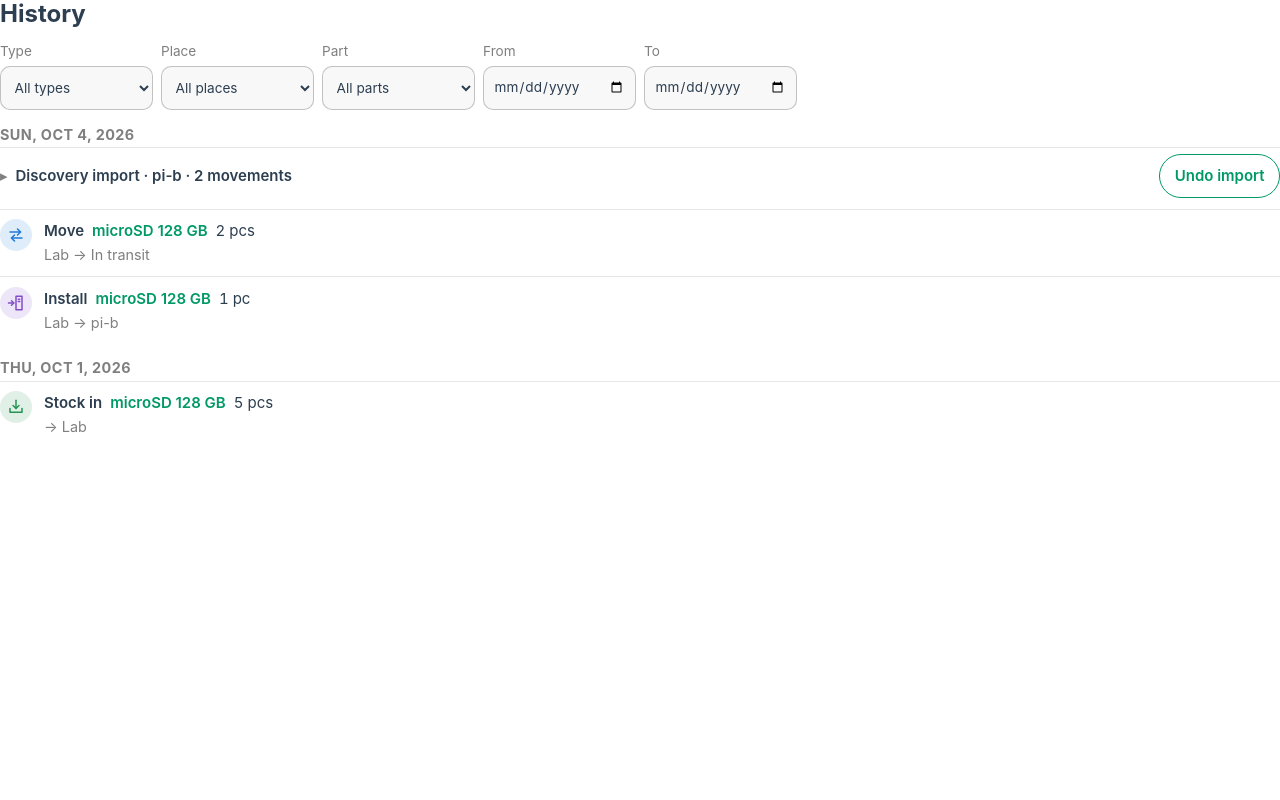
Test: History: discovery imports (spec §4.8, §13.4.4) › Undo import errors stay on the sheet
Click the button with test id "undo-import" at x=1220, y=176, box [1159, 154, 1279, 198]
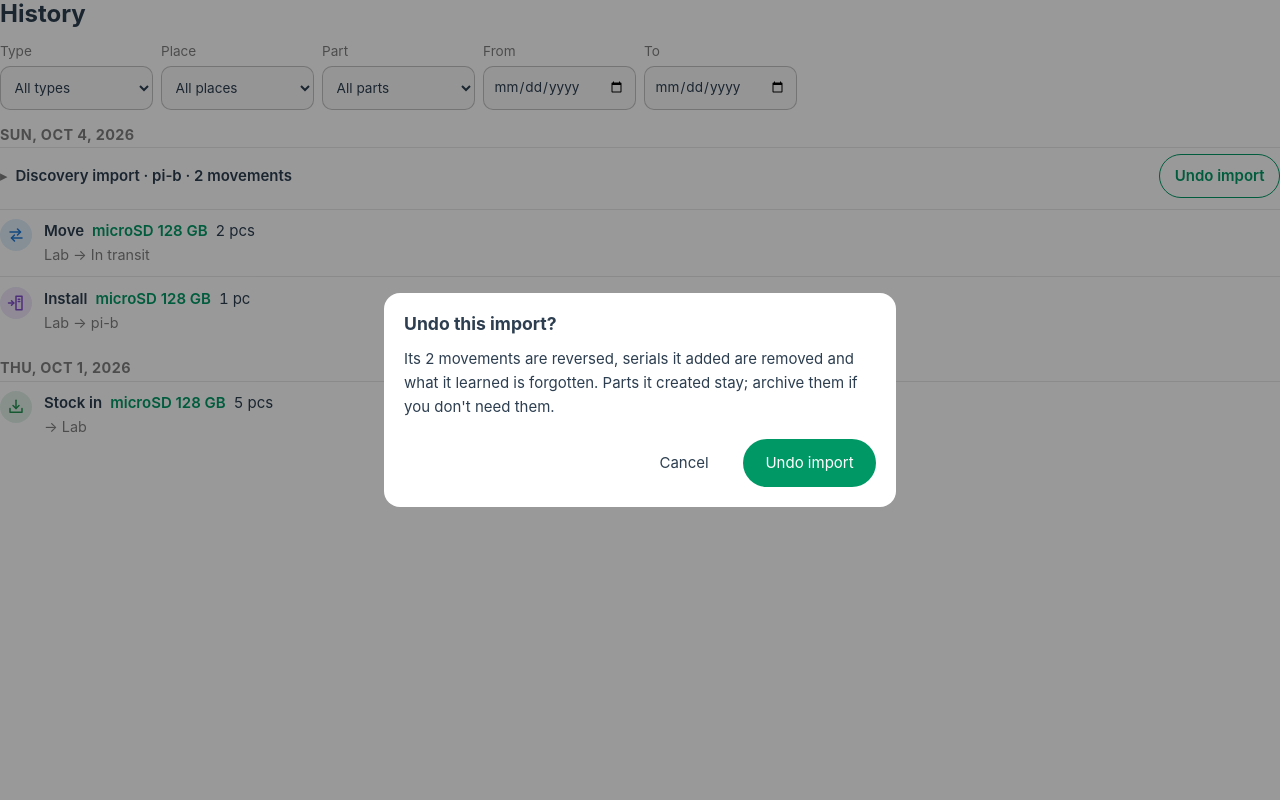
Click the button "Undo import" at x=810, y=462, box [743, 438, 876, 486]
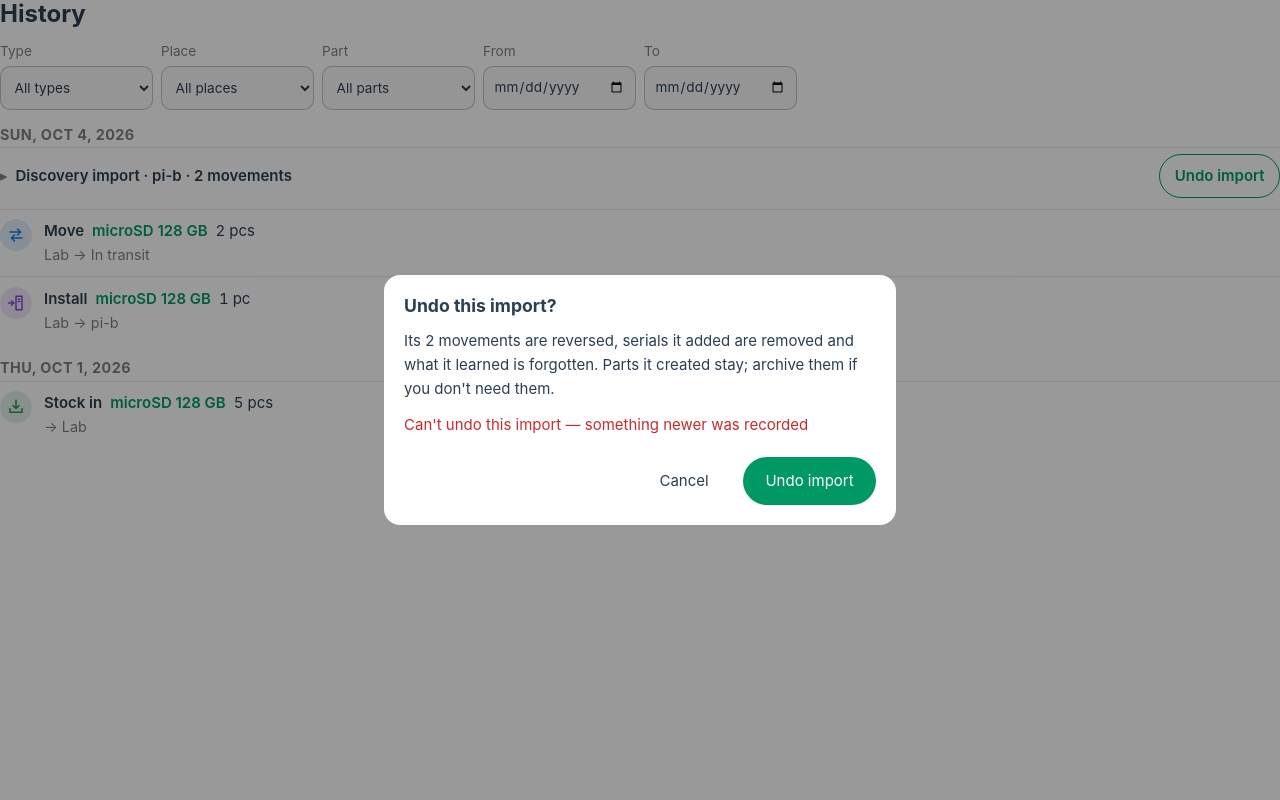
Expected: the dialog with class "sheet" shows "Can't undo this import — something newer was recorded", [404, 414, 808, 434]
